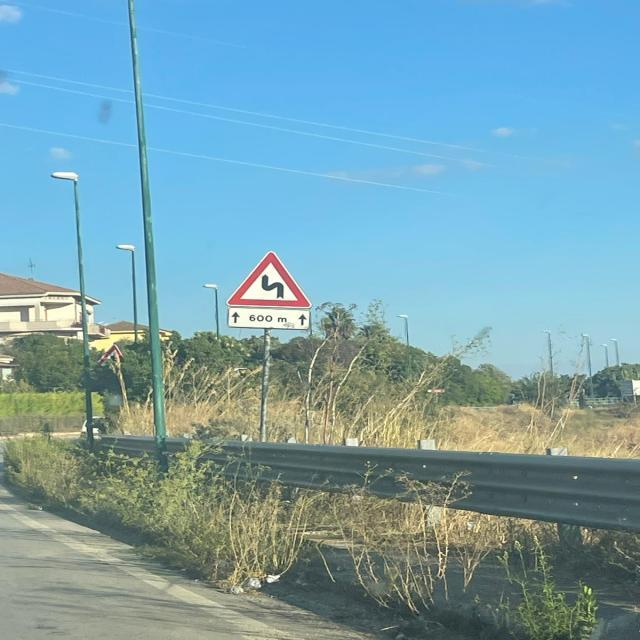warn_double_curve: (226, 250, 314, 310)
